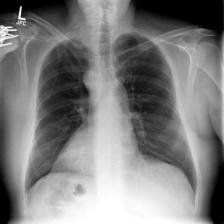normal: (16, 30, 200, 210)
